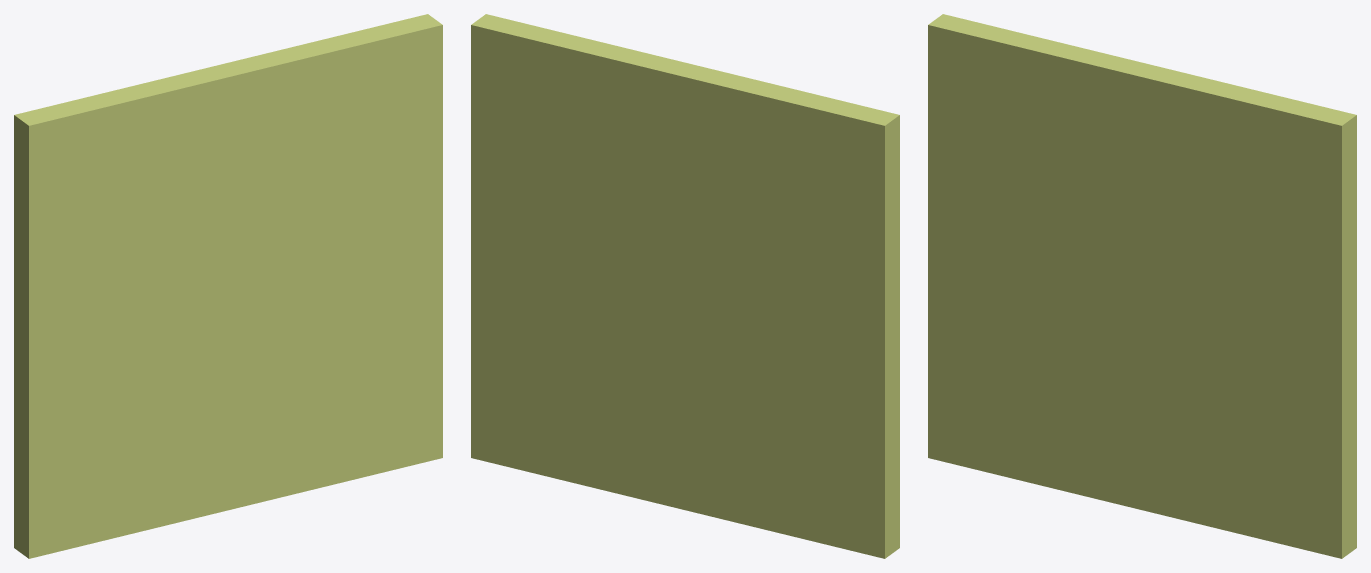
The picture shows the model from 3 angles, left to right: view 1: azimuth 30°, elevation 25°; view 2: azimuth 150°, elevation 25°; view 3: azimuth 330°, elevation 25°; orthographic projection.
Size of the model in its own units: 16 by 16 by 1.
